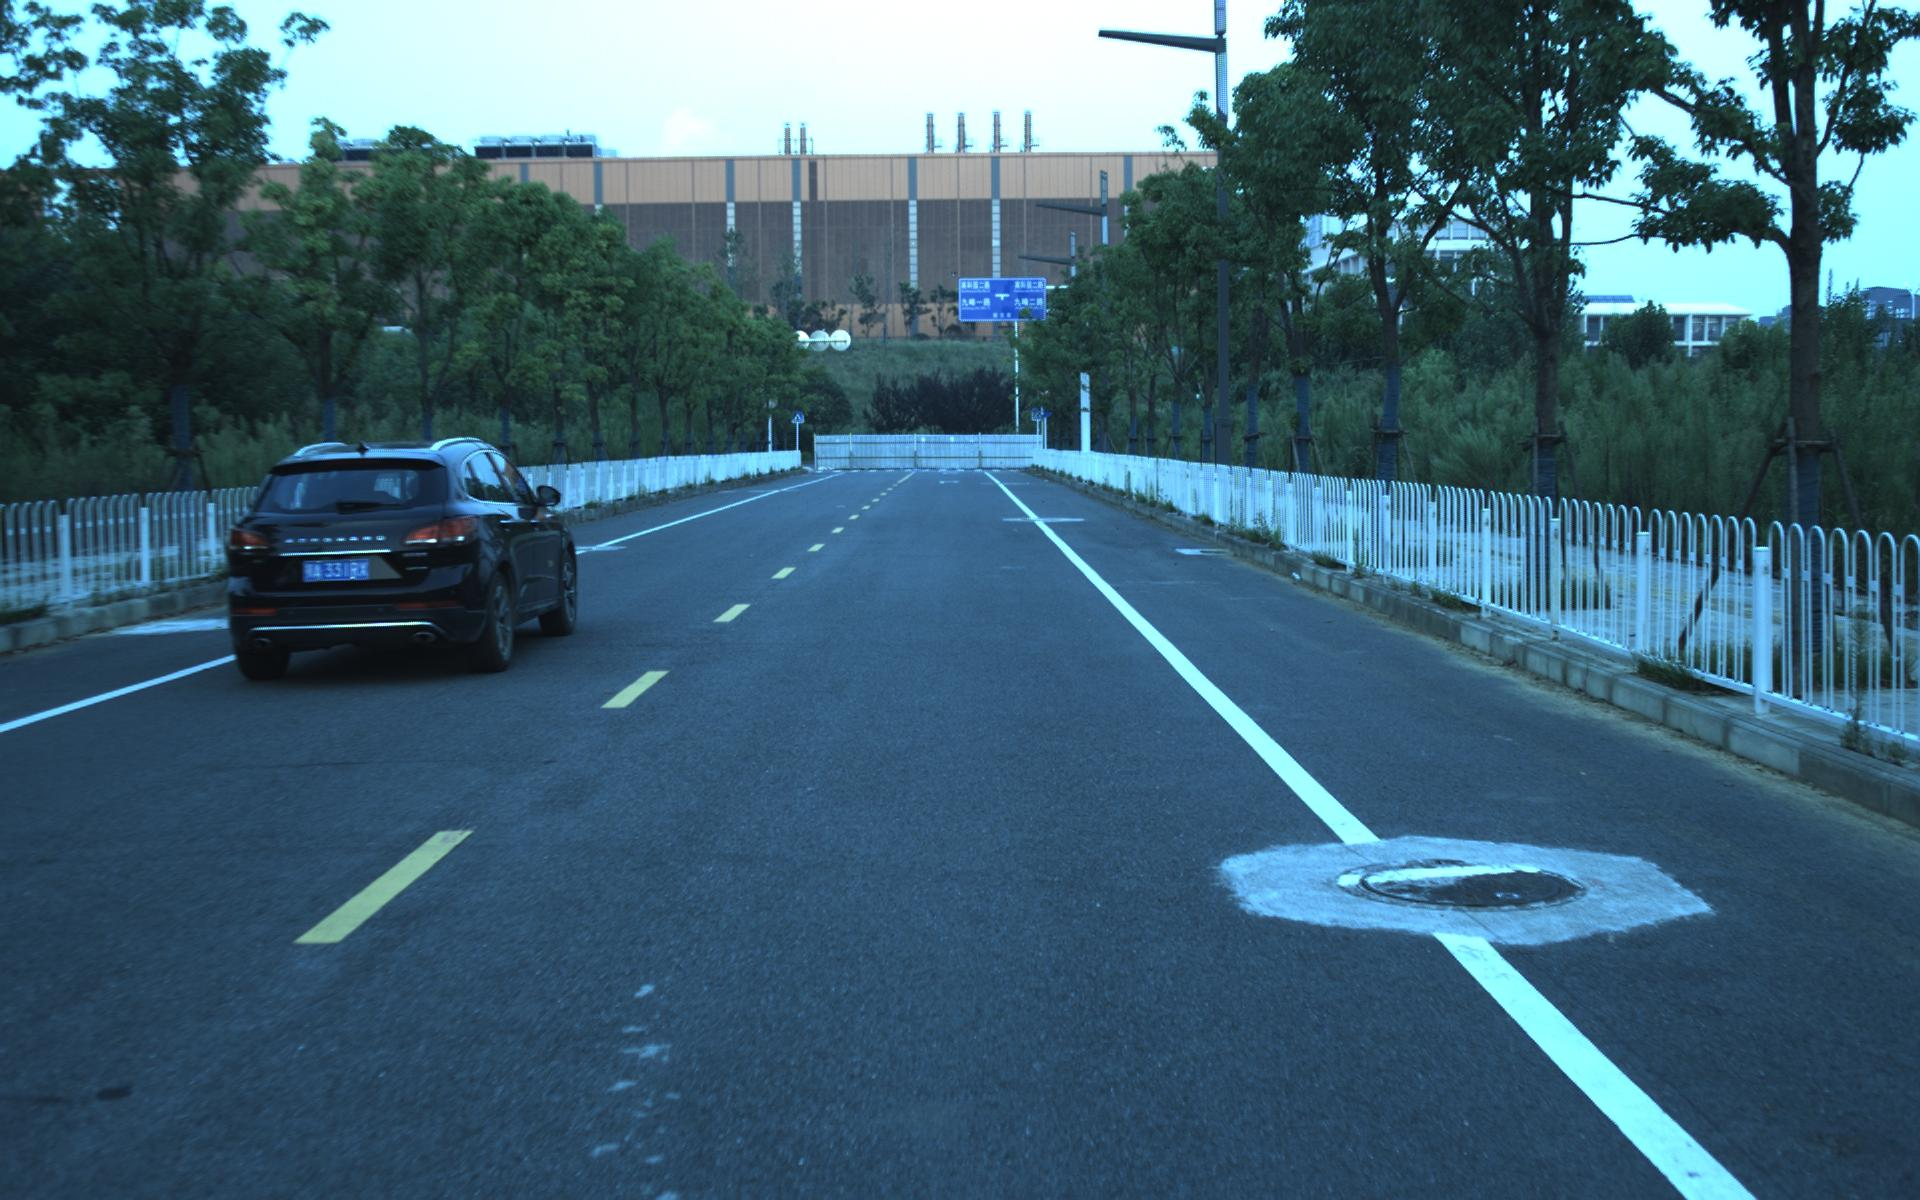Car: (207, 429, 583, 684)
